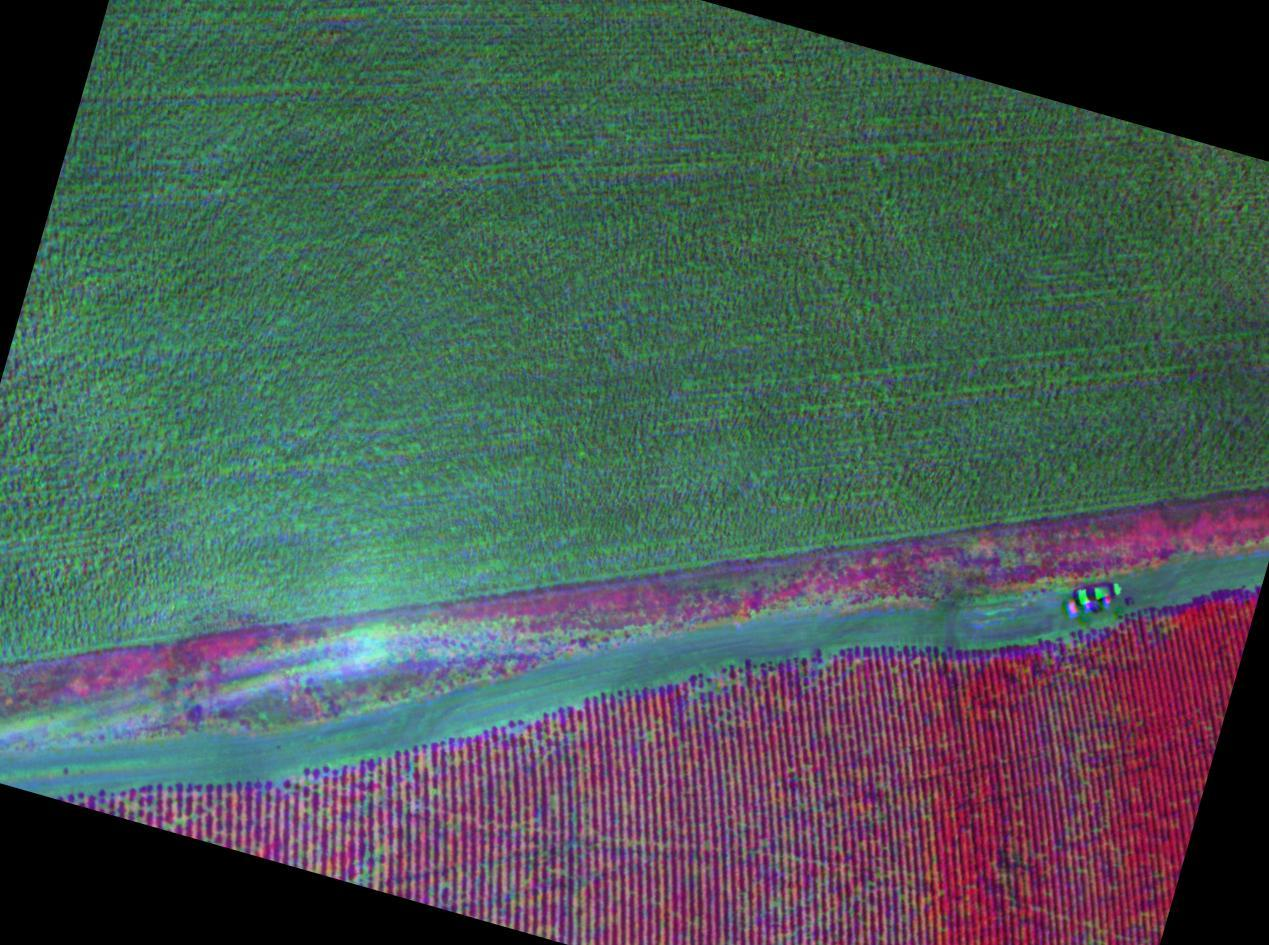dc: (767, 854, 819, 913), (352, 838, 400, 887), (125, 795, 212, 822), (696, 677, 758, 710), (269, 780, 329, 813), (1057, 633, 1094, 673), (643, 712, 675, 747)
